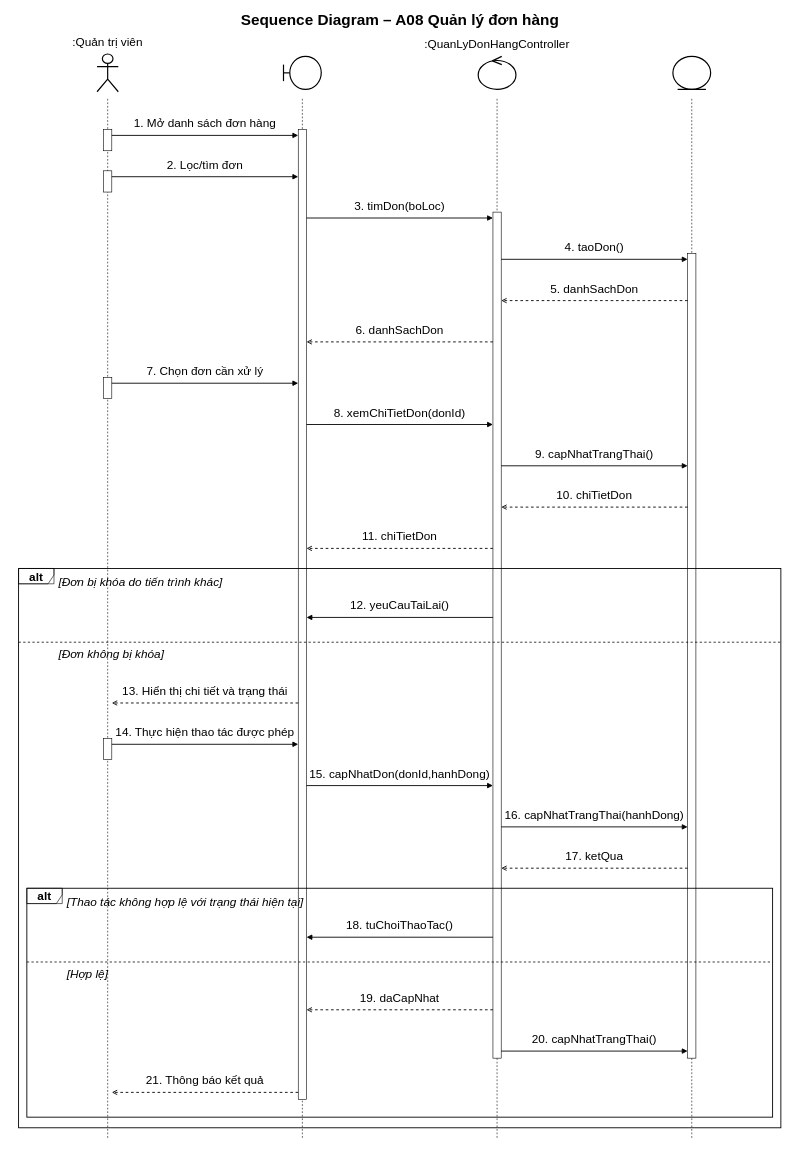
This 799x1151 diagram has some shape labels left out. Each missing label, with the box of its shape:
:DonHang: (672, 55, 711, 90)
:QuanLyDonHangPage: (283, 55, 322, 90)
